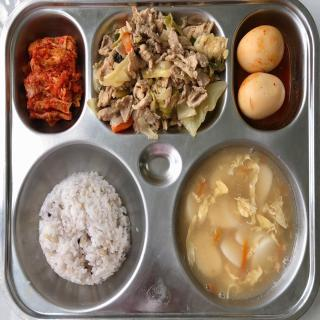Nasi: (42, 174, 132, 287)
